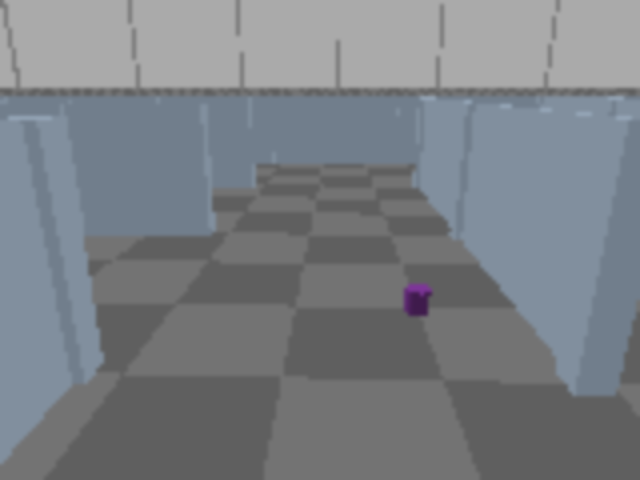puck: (405, 285, 430, 316)
